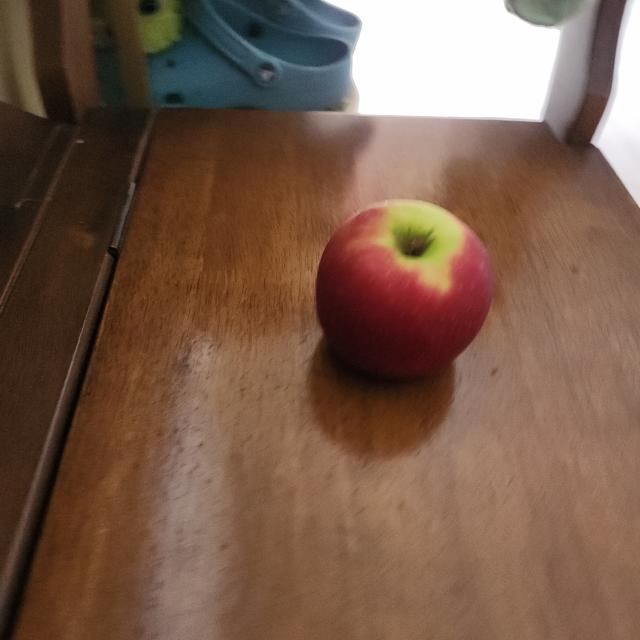apple: (302, 194, 503, 393)
